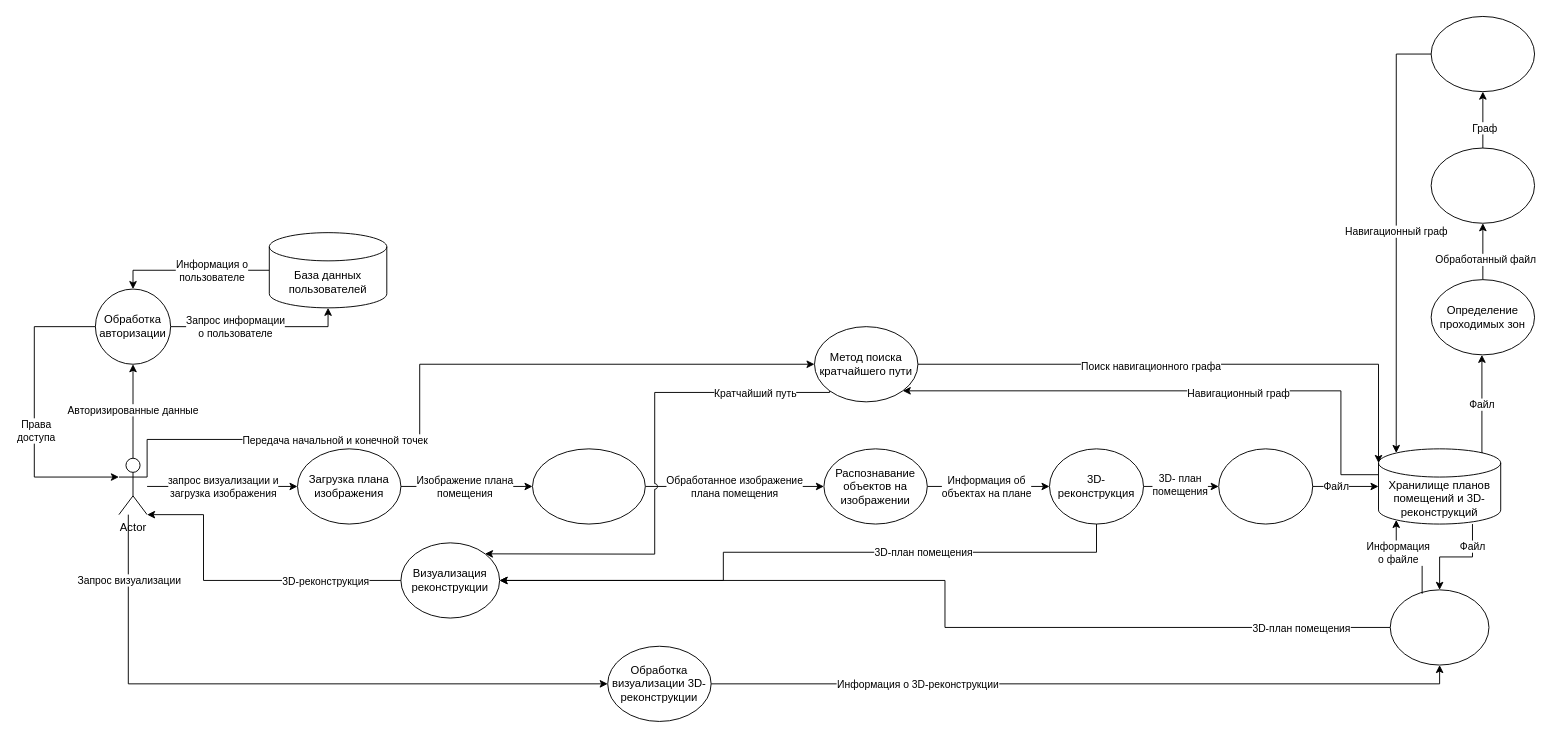
Image size: 1552x738. Some labels were removed from this diagram. The shapes that lost their labels are listed below. From the top down, each one's centre as x and y in pixels, then its label:
[1482,54]: Сохранение графа
[1482,185]: Создание графа
[588,486]: Предобработка плана изображения
[1265,486]: Сохранение 3D-модели плана
[1439,627]: Запрос файла 3D-рекоснтрукции
